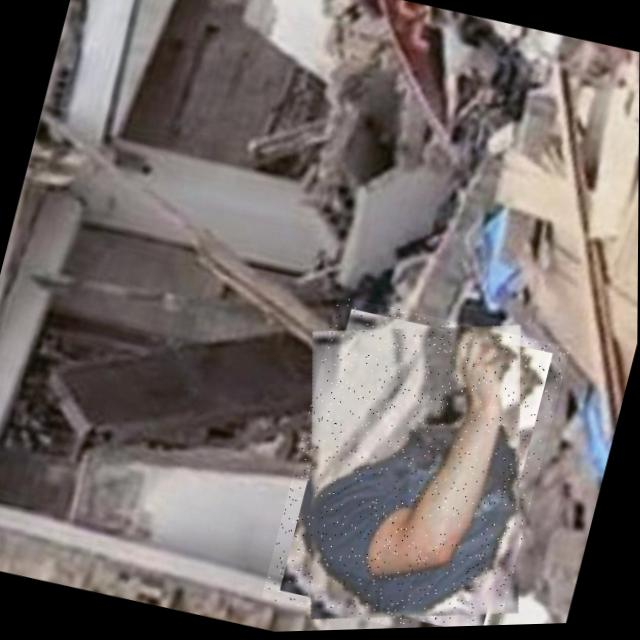Person in Rubble: (261, 291, 571, 634)
